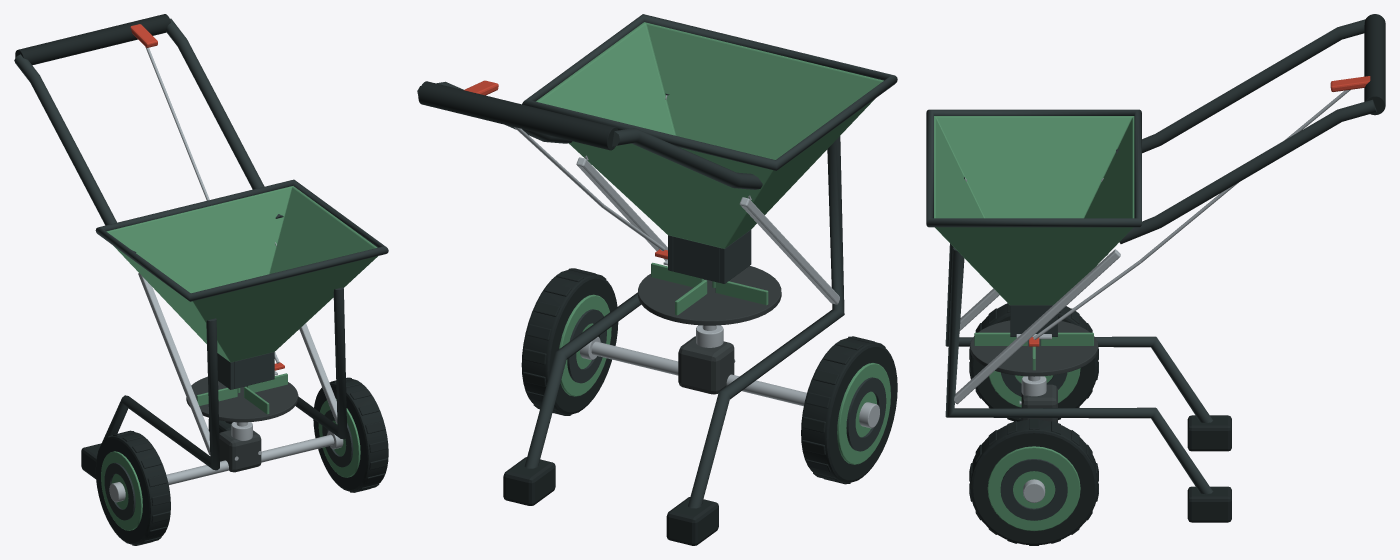
File: city-broadcast-spreader.glb
3 views of the same model, side by side, from view 1: azimuth 30°, elevation 25°; view 2: azimuth 150°, elevation 25°; view 3: azimuth 270°, elevation 25° (orthographic). The views are drawn at different scales.
Visible parts, largest first — view 1: Assembly | Garden green polymer, Assembly | Graphite painted metal, Assembly | Textured charcoal rubber, Assembly | Satin zinc steel, Assembly | Dark molded polymer; view 2: Assembly | Garden green polymer, Assembly | Graphite painted metal, Assembly | Textured charcoal rubber, Assembly | Satin zinc steel, Assembly | Dark molded polymer; view 3: Assembly | Garden green polymer, Assembly | Graphite painted metal, Assembly | Textured charcoal rubber, Assembly | Satin zinc steel, Assembly | Dark molded polymer, Assembly | Control red polymer.
Boxes of the visible parts, bbox=[...] form: Assembly | Garden green polymer: bbox=[101, 186, 377, 530]; Assembly | Graphite painted metal: bbox=[14, 18, 388, 520]; Assembly | Textured charcoal rubber: bbox=[15, 14, 388, 545]; Assembly | Satin zinc steel: bbox=[109, 47, 343, 502]; Assembly | Dark molded polymer: bbox=[186, 376, 298, 472]; Assembly | Garden green polymer: bbox=[536, 22, 890, 464]; Assembly | Graphite painted metal: bbox=[417, 14, 897, 508]; Assembly | Textured charcoal rubber: bbox=[418, 81, 897, 545]; Assembly | Satin zinc steel: bbox=[514, 95, 879, 428]; Assembly | Dark molded polymer: bbox=[638, 266, 781, 394]; Assembly | Garden green polymer: bbox=[934, 116, 1134, 531]; Assembly | Graphite painted metal: bbox=[926, 19, 1376, 520]; Assembly | Textured charcoal rubber: bbox=[969, 14, 1385, 545]; Assembly | Satin zinc steel: bbox=[954, 89, 1350, 502]; Assembly | Dark molded polymer: bbox=[970, 320, 1098, 422]; Assembly | Control red polymer: bbox=[1029, 76, 1370, 346].
Bounding box in the file's own units: 0.7663 × 1.06 × 1.04.
